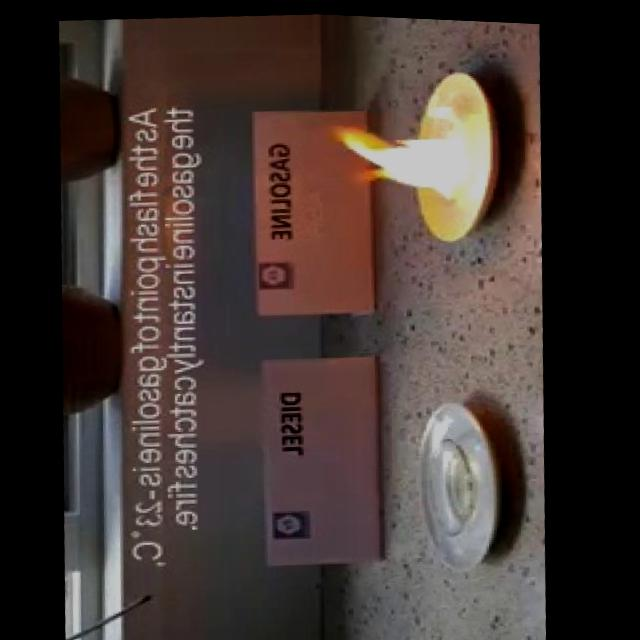helmet: (324, 83, 483, 218)
